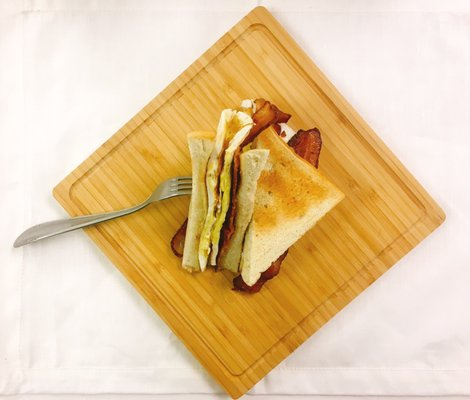salad: (13, 173, 193, 247)
soup: (173, 98, 346, 292)
